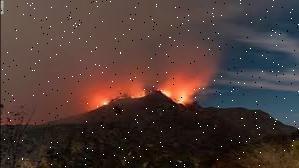fire: (89, 80, 200, 111)
